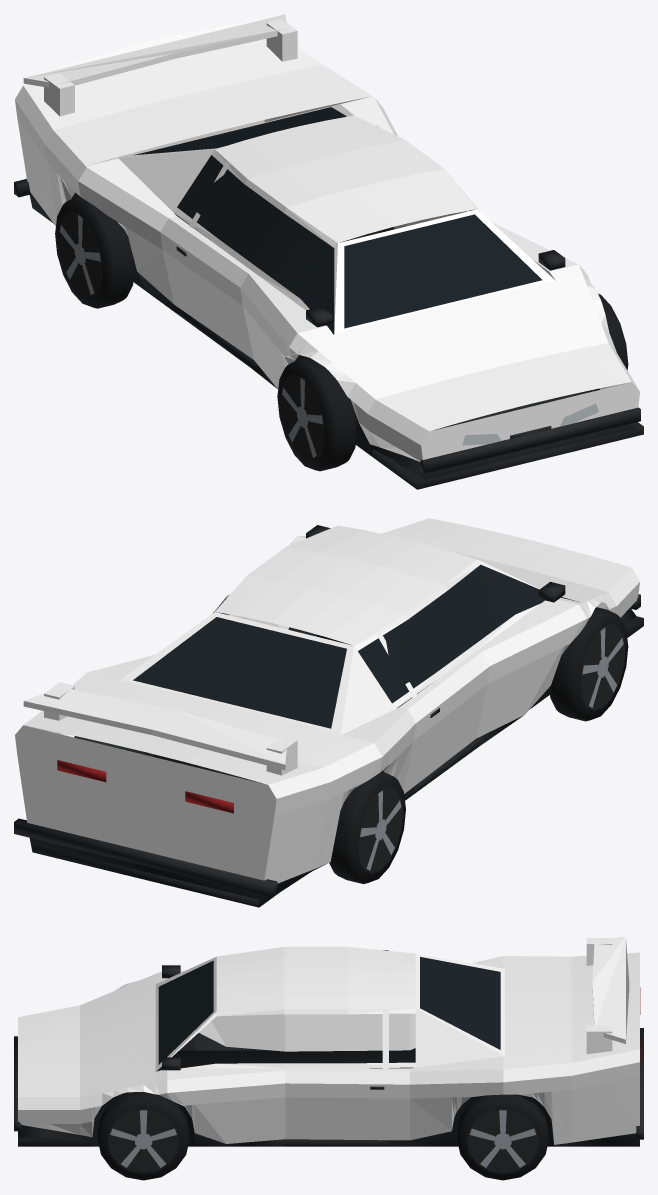
File: ostwerk_estaca.glb
3 renders of one model, top to bottom at view 1: azimuth 30°, elevation 25°; view 2: azimuth 150°, elevation 25°; view 3: azimuth 270°, elevation 25°, orthographic. The views are drawn at different scales.
Visible parts, largest first — view 1: Body_Paint, Body_Details, Mount_FrontLeft_Wheel_Details, Mount_RearLeft_Wheel_Details, Mount_FrontRight_Wheel_Details; view 2: Body_Paint, Body_Details, Mount_RearLeft_Wheel_Details, Mount_FrontLeft_Wheel_Details; view 3: Body_Paint, Body_Details, Mount_FrontRight_Wheel_Details, Mount_RearRight_Wheel_Details.
Part boxes in pixels (x1,y1,x2,y2): Body_Paint: (15, 14, 639, 461); Body_Details: (14, 107, 643, 489); Mount_FrontLeft_Wheel_Details: (277, 357, 357, 471); Mount_RearLeft_Wheel_Details: (55, 196, 134, 308); Mount_FrontRight_Wheel_Details: (598, 293, 628, 370); Body_Paint: (15, 518, 639, 883); Body_Details: (14, 525, 643, 907); Mount_RearLeft_Wheel_Details: (329, 771, 405, 883); Mount_FrontLeft_Wheel_Details: (549, 607, 628, 721); Body_Paint: (18, 936, 639, 1144); Body_Details: (14, 957, 643, 1146); Mount_FrontRight_Wheel_Details: (97, 1091, 189, 1180); Mount_RearRight_Wheel_Details: (457, 1094, 549, 1180).
Bounding box in the file's own units: 2 × 1.15 × 4.43.
Materials: 2 (1 with a texture image).
